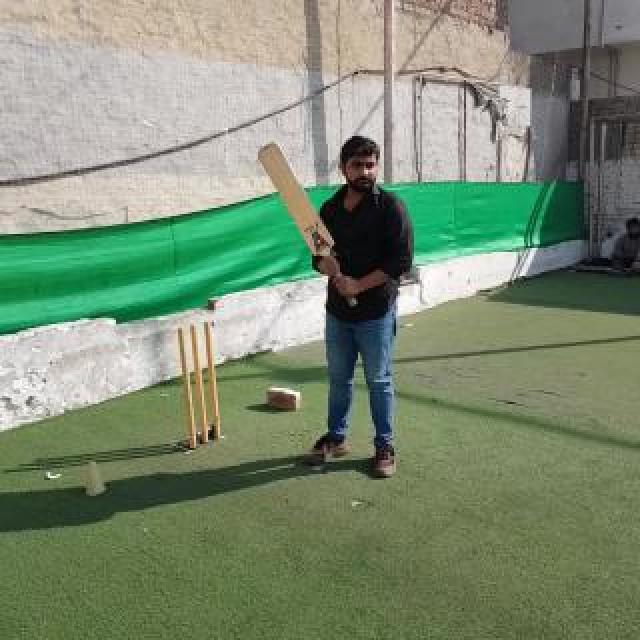bat: (258, 141, 358, 307)
